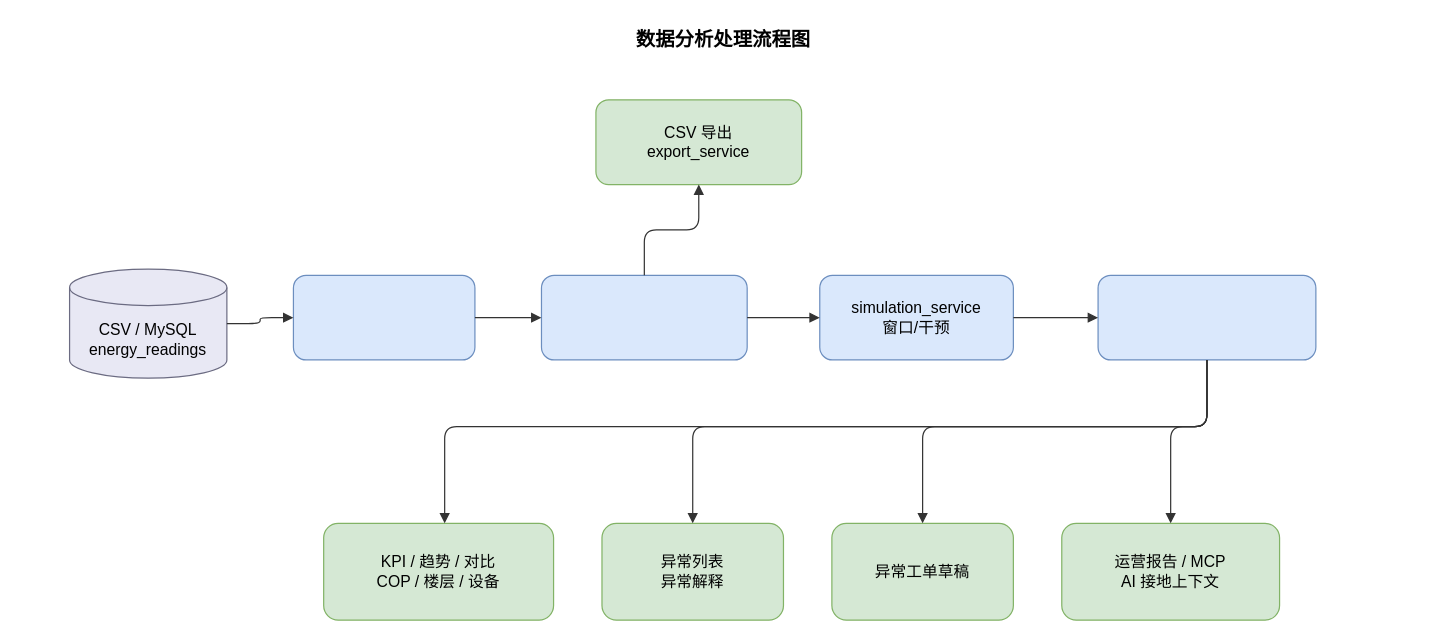
Image size: 1445x641. Some labels were removed from this diagram. The shapes that lost their labels are listed below. From the top down, each one's centre as x and y in pixels, then its label:
the point at 383,317: data_loader read_dataset
the point at 643,317: get_filtered_dataset 建筑/时间/limit
the point at 1206,317: analysis_service build_analysis_frame
